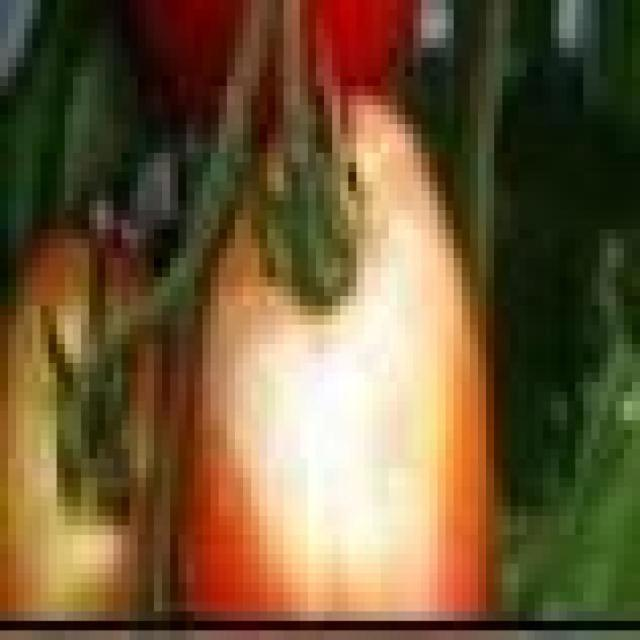Sunscald Fruit: (49, 210, 213, 331)
